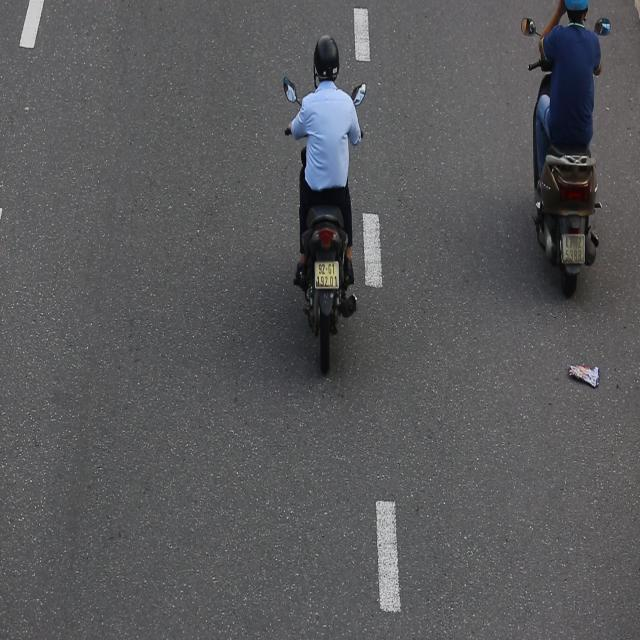motorbike: (280, 24, 378, 379)
